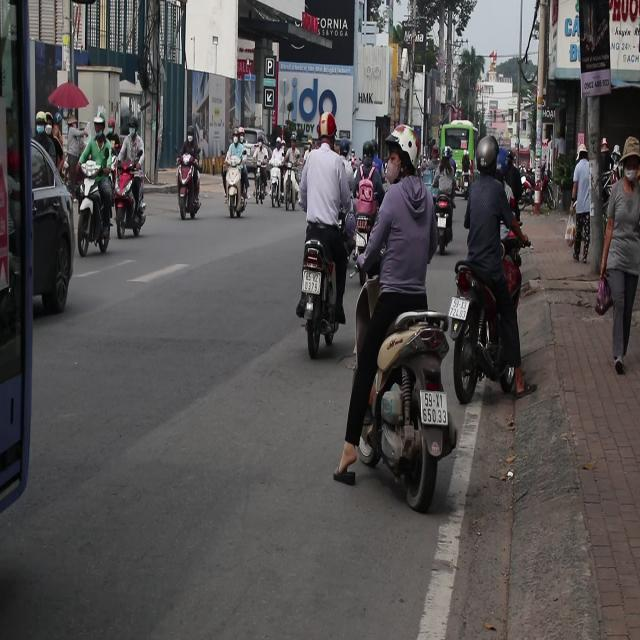bus: (442, 122, 478, 182)
car: (32, 140, 76, 317), (233, 127, 269, 154)
motorbike: (351, 298, 461, 511), (455, 261, 544, 390), (302, 228, 349, 366), (112, 166, 149, 238), (86, 158, 111, 258), (222, 156, 249, 236), (178, 154, 201, 222), (434, 189, 455, 255), (348, 227, 371, 287), (288, 170, 302, 221), (251, 157, 264, 205), (272, 155, 278, 215)
